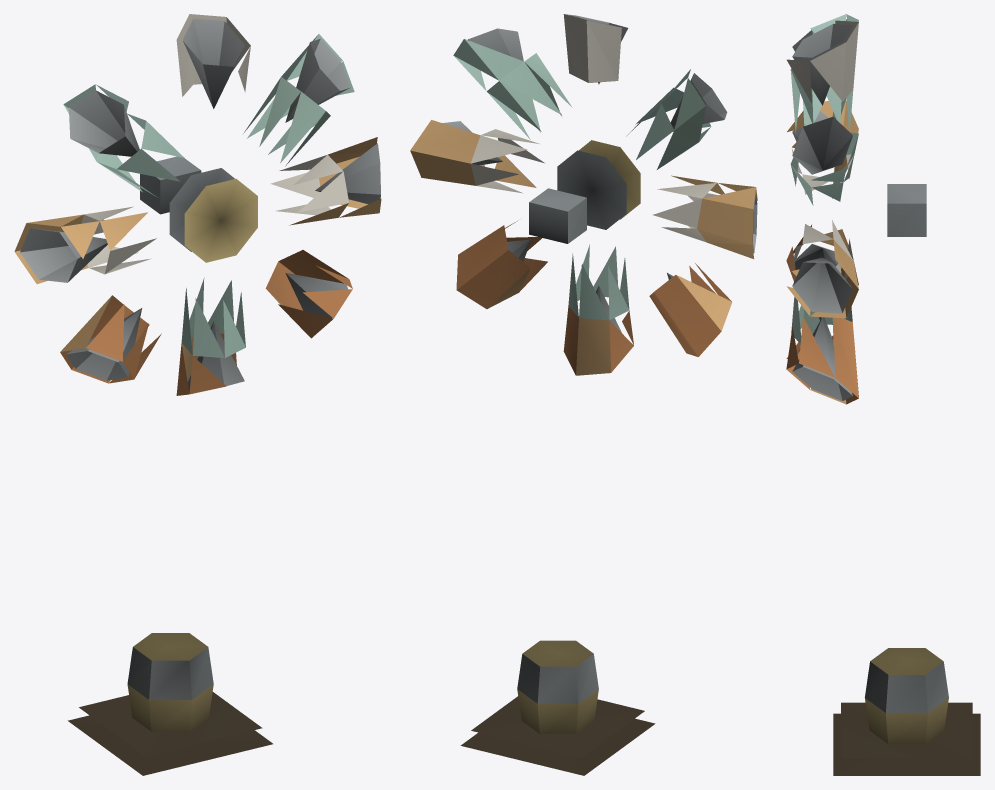
Rendered from spinner.lod.glb.
The picture shows the model from 3 angles, left to right: view 1: azimuth 30°, elevation 25°; view 2: azimuth 150°, elevation 25°; view 3: azimuth 270°, elevation 25°; orthographic projection. The views are drawn at different scales.
Parts seen in each view (by area): view 1: spinner; view 2: spinner; view 3: spinner.
Boxes of the visible parts, x1=… form: spinner: x1=14, y1=14, x2=381, y2=775; spinner: x1=410, y1=14, x2=757, y2=775; spinner: x1=786, y1=14, x2=980, y2=775.
Size of the model in its own units: 3.1 by 6.04 by 1.48.
